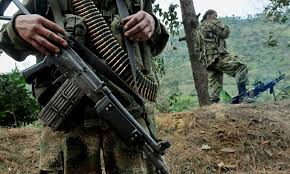Arma Real: (1, 1, 181, 174), (228, 71, 286, 103)
